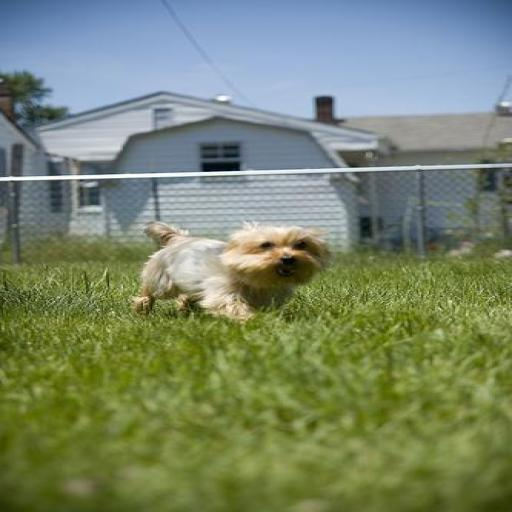dog_face: (227, 226, 328, 287)
